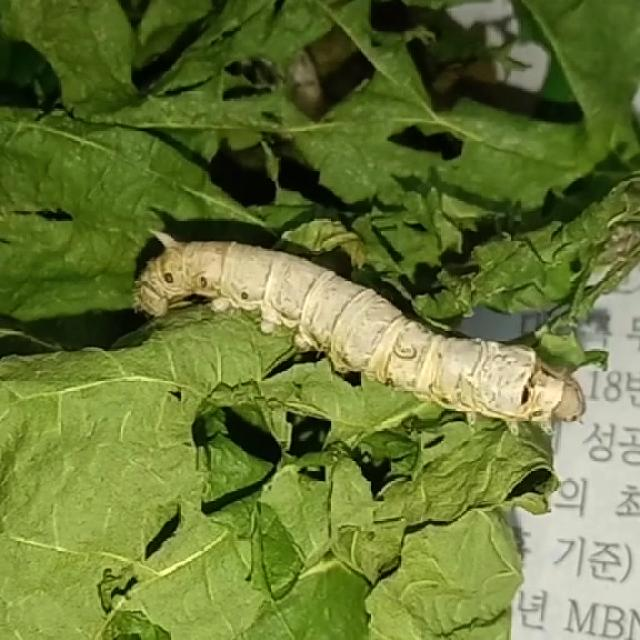Grasserie: (132, 217, 593, 442)
